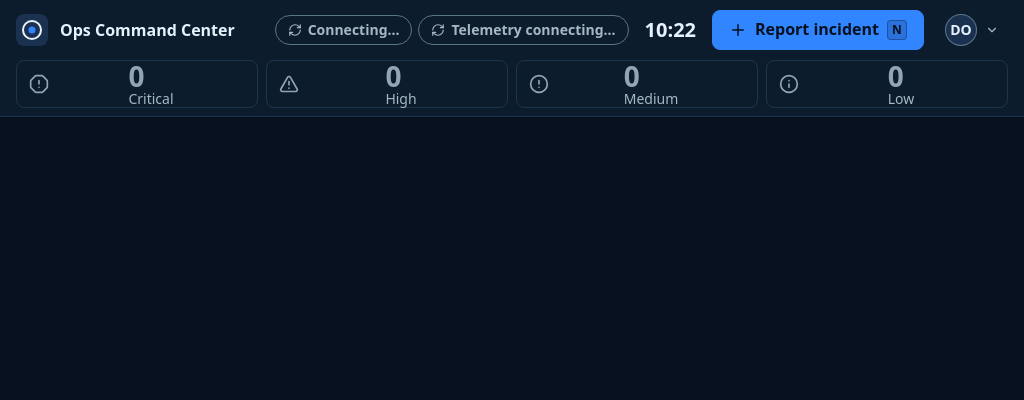
Scenario: Header › shows who is signed in, with a way to sign out
Click the button named "Demo Operator". click: point(974, 30)
box: [940,8,1008,52]
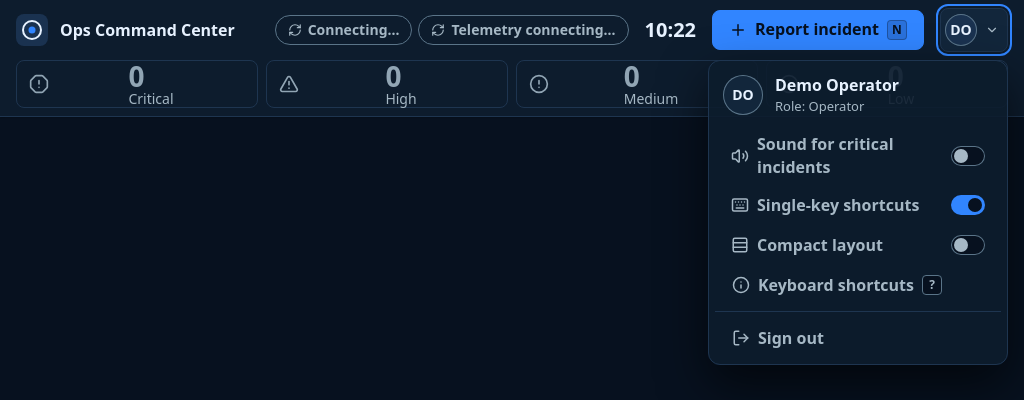
Now the button "Sign out" is shown, box [715,318,1001,358]
